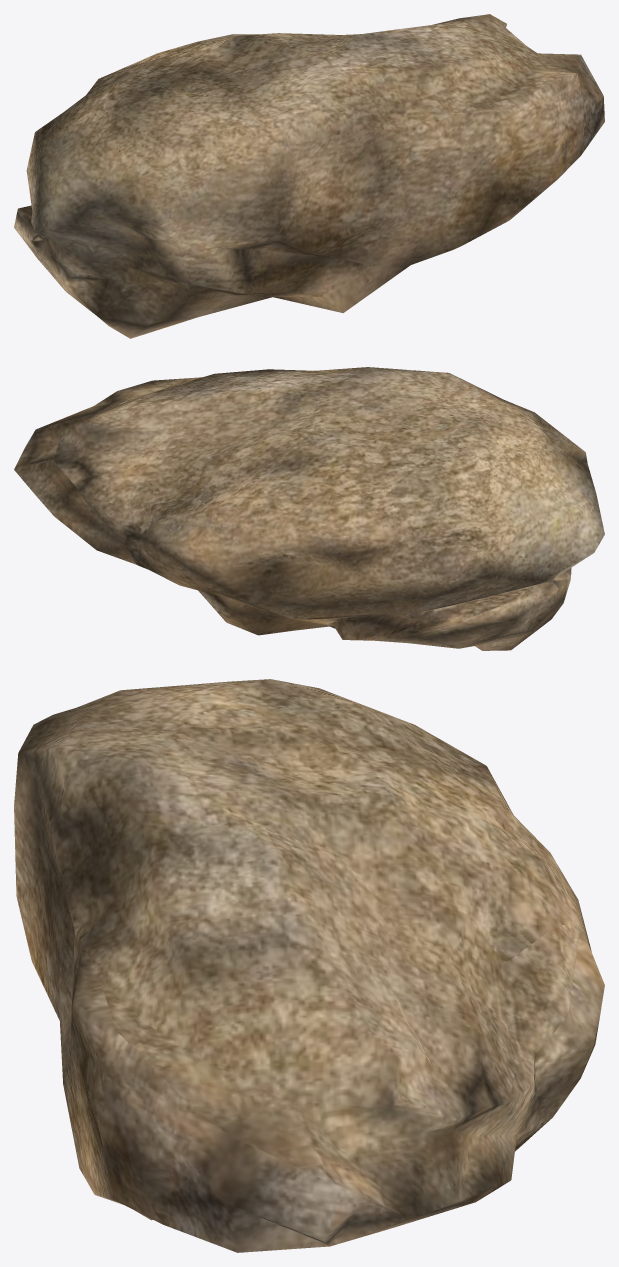
The model's file is namaqualand_boulder_05.glb.
The picture shows the model from 3 angles, top to bottom: view 1: azimuth 30°, elevation 25°; view 2: azimuth 150°, elevation 25°; view 3: azimuth 270°, elevation 25°; orthographic projection. The views are drawn at different scales.
Visible parts, largest first — view 1: namaqualand_boulder_05; view 2: namaqualand_boulder_05; view 3: namaqualand_boulder_05.
Boxes of the visible parts, x1,y1,x2,y2 form: namaqualand_boulder_05: [14, 14, 604, 338]; namaqualand_boulder_05: [14, 367, 604, 650]; namaqualand_boulder_05: [14, 679, 604, 1252].
Size of the model in its own units: 1.35 by 0.523 by 0.7334.
1 material, 1 textured.
